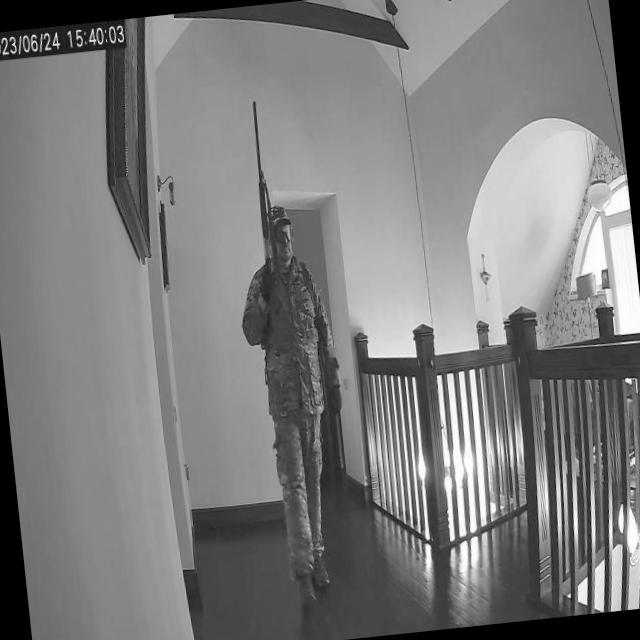gun: (246, 97, 282, 330)
person with a gun: (221, 94, 360, 604)
